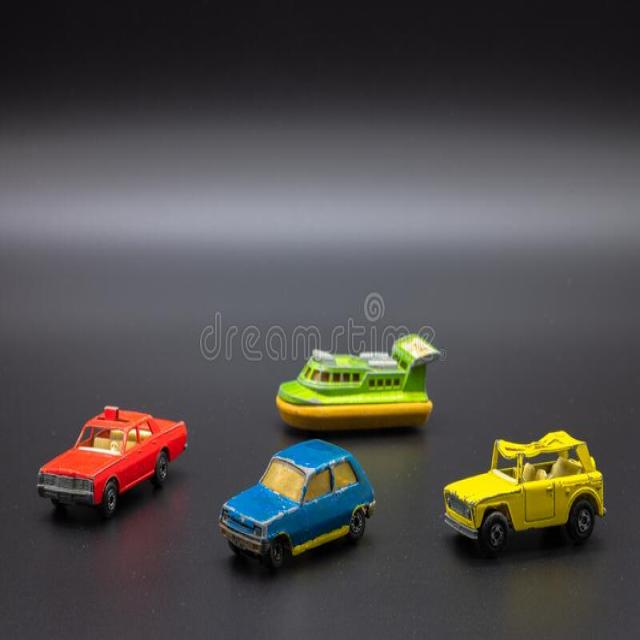Car: (442, 428, 606, 558), (218, 437, 375, 570), (36, 404, 187, 519), (275, 331, 441, 432)
